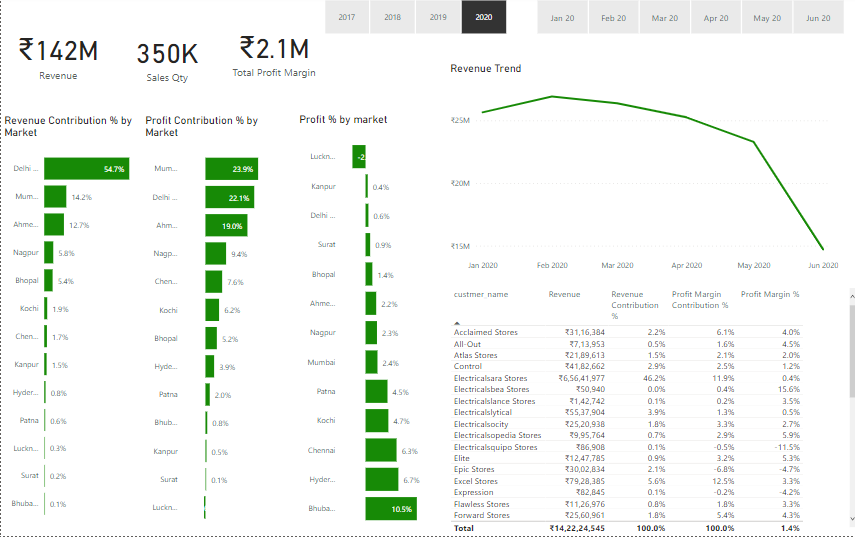

The dashboard page shown, as its layout file describes it:
{"tool":"powerbi","page":{"name":"Profit Analysis","canvas":[1350,850],"ordinal":1},"visuals":[{"type":"card","fields":{"Values":["BaseMeasures (2).Revenue"]},"box":[0,0,179.6,184.8],"z":0},{"type":"card","fields":{"Values":["BaseMeasures (2).Sales Qty"]},"box":[179.6,0,164.1,193],"z":1000},{"type":"barChart","title":"Profit % by market","fields":{"Y":["BaseMeasures (2).Profit Margin %"],"Category":["sales markets.markets_name"]},"box":[464.5,184.8,230.2,664.8],"z":2000},{"type":"barChart","title":"Profit Contribution % by Market","fields":{"Y":["BaseMeasures (2).Profit Margin Contribution %"],"Category":["sales markets.markets_name"]},"box":[221.9,185.8,208.5,659.6],"z":3000},{"type":"slicer","fields":{"Values":["sales date.year"]},"box":[483.2,0,335.5,66.5],"z":4000},{"type":"slicer","fields":{"Values":["sales date.cy_date"]},"box":[818.6,0,531.7,66.5],"z":5000},{"type":"tableEx","title":"Top 5 Customers","fields":{"Values":["sales customers.custmer_name","BaseMeasures (2).Revenue","BaseMeasures (2).Revenue Contribution %","BaseMeasures (2).Profit Margin Contribution %","BaseMeasures (2).Profit Margin %"]},"box":[701.9,454.2,648.3,395.4],"z":6000},{"type":"lineChart","title":"Revenue Trend","fields":{"Y":["BaseMeasures (2).Revenue"],"Category":["sales date.cy_date"]},"box":[701.9,104.3,621.4,338.6],"z":7000},{"type":"card","fields":{"Values":["BaseMeasures (2).Total Profit Margin"]},"box":[349.9,0,161,176.5],"z":8000},{"type":"barChart","title":"Revenue Contribution % by Market","fields":{"Y":["BaseMeasures (2).Revenue Contribution %"],"Category":["sales markets.markets_name"]},"box":[0,185.8,219.9,654.5],"z":9000}]}

Visuals, with their boxes in screenshot pixels (x1, y1, x2, y2), scaled from the page's 1350x850 canvas onto the 855x537 screenshot:
card - BaseMeasures (2).Revenue: 0 0 114 117
card - BaseMeasures (2).Sales Qty: 114 0 218 122
"Profit % by market" barChart: 294 117 440 536
"Profit Contribution % by Market" barChart: 141 117 273 534
slicer - sales date.year: 306 0 519 42
slicer - sales date.cy_date: 518 0 854 42
"Top 5 Customers" tableEx: 445 287 854 536
"Revenue Trend" lineChart: 445 66 838 280
card - BaseMeasures (2).Total Profit Margin: 222 0 324 112
"Revenue Contribution % by Market" barChart: 0 117 139 531
